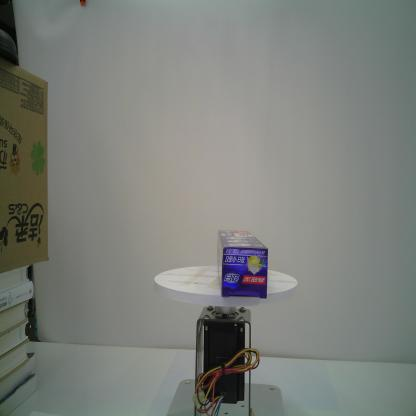Personal Hygiene: (214, 225, 268, 303)
